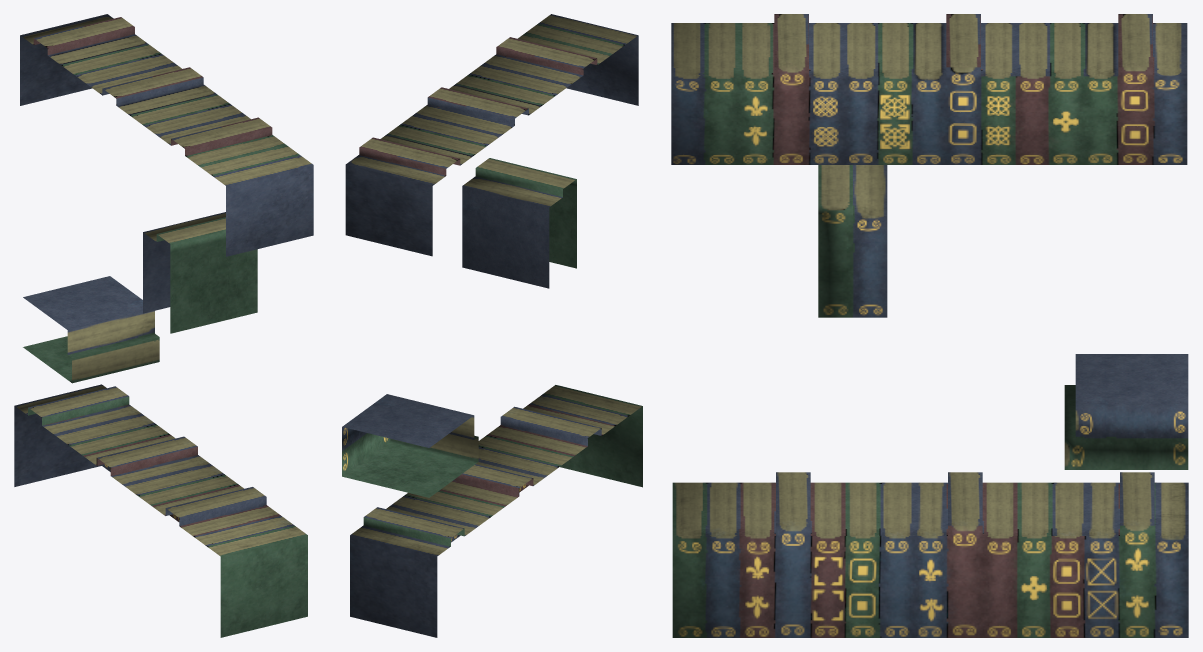
Rendered from BookCaseFillUpper_B_02.fbx.
The picture shows the model from 3 angles, left to right: view 1: azimuth 30°, elevation 25°; view 2: azimuth 150°, elevation 25°; view 3: azimuth 270°, elevation 25°; orthographic projection. The views are drawn at different scales.
Parts seen in each view (by area): view 1: BookCaseFillUpper_B_02; view 2: BookCaseFillUpper_B_02; view 3: BookCaseFillUpper_B_02.
Part boxes in pixels (x1=…): BookCaseFillUpper_B_02: x1=14, y1=14, x2=313, y2=637; BookCaseFillUpper_B_02: x1=342, y1=14, x2=642, y2=637; BookCaseFillUpper_B_02: x1=671, y1=14, x2=1188, y2=637.
Size of the model in its own units: 27.17 by 125 by 102.
